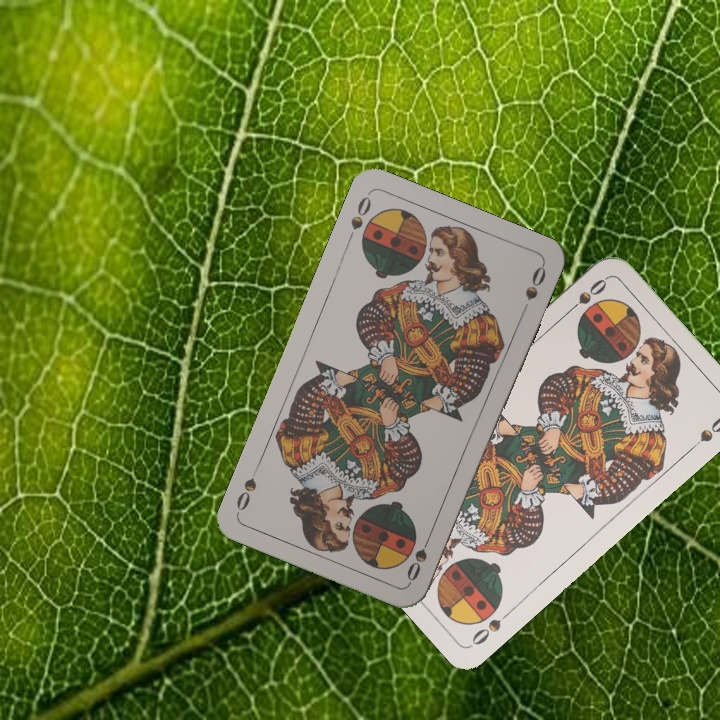SO: (561, 274, 610, 318), (467, 605, 516, 649), (402, 529, 435, 584), (342, 190, 374, 246)
